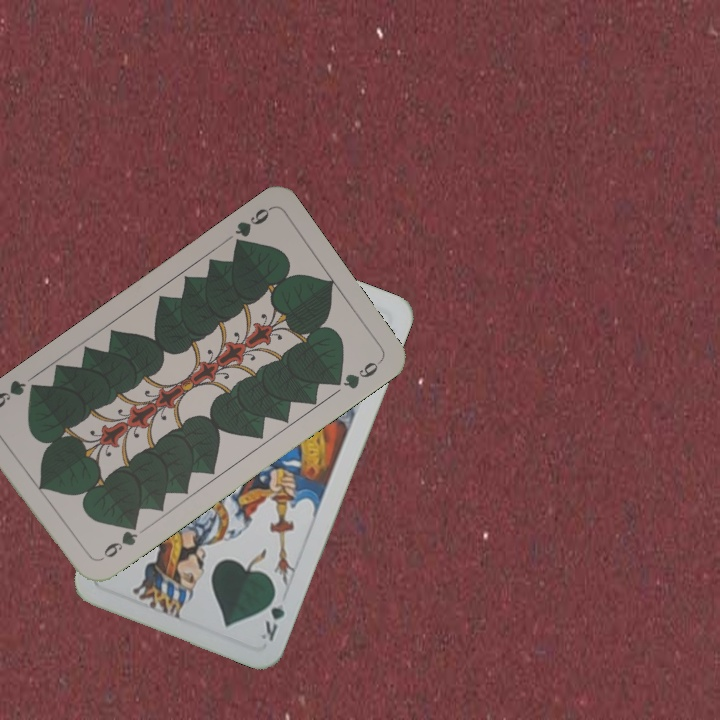G9: (229, 203, 274, 252), (94, 518, 141, 564)
GK: (256, 586, 288, 644)
